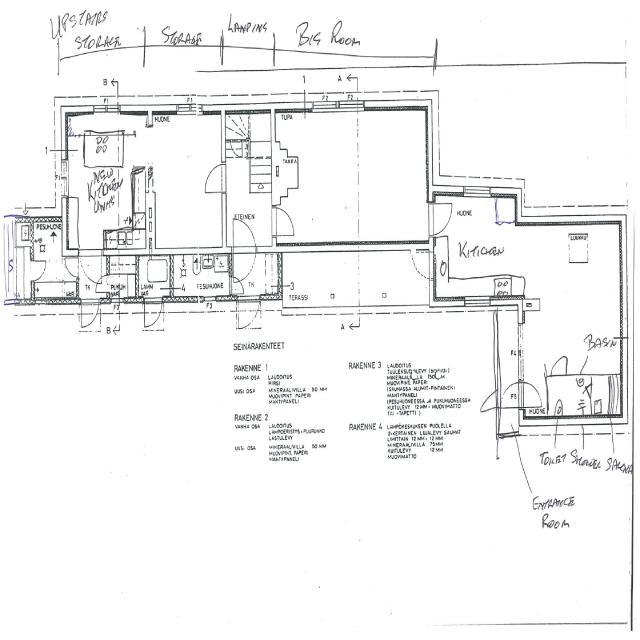door: (231, 215, 257, 265), (236, 294, 261, 330), (78, 250, 104, 284), (409, 243, 432, 280), (430, 200, 453, 235), (272, 204, 296, 237), (232, 248, 256, 281), (203, 160, 226, 194), (520, 379, 544, 411), (142, 298, 164, 330), (94, 88, 120, 113), (80, 298, 100, 329), (500, 381, 522, 408), (477, 389, 499, 414), (549, 353, 569, 378), (62, 255, 80, 280), (30, 258, 48, 281)
window: (462, 293, 492, 310), (311, 98, 340, 113), (461, 184, 492, 198)
zone: (277, 110, 360, 244), (144, 116, 224, 250), (554, 228, 624, 377), (356, 108, 429, 244), (434, 192, 520, 298), (65, 129, 136, 240), (280, 248, 358, 312), (170, 252, 230, 300), (546, 375, 592, 416), (496, 314, 523, 382), (8, 239, 33, 302), (105, 253, 138, 299), (137, 255, 170, 298), (590, 373, 622, 417), (31, 220, 63, 261)
